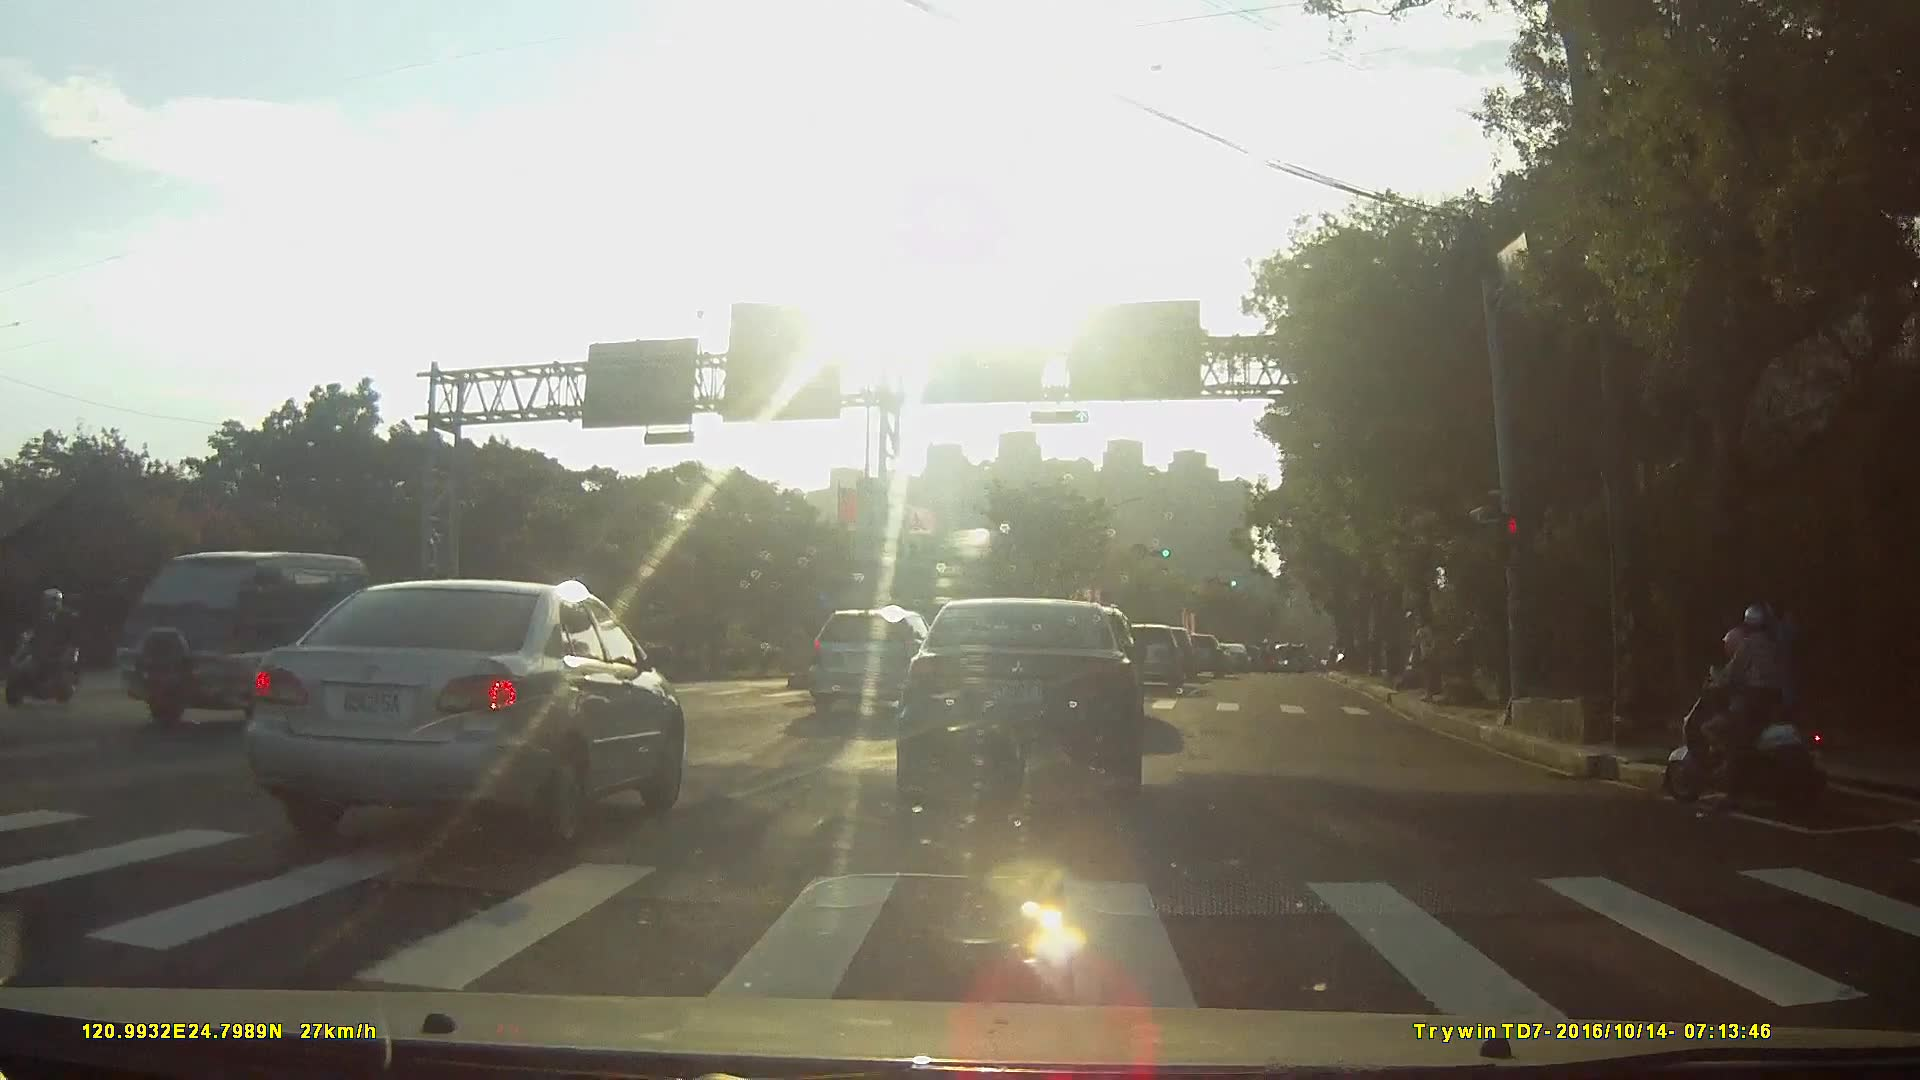pedestrian: (1749, 584, 1811, 749)
rider: (1664, 605, 1830, 819), (17, 589, 82, 707)
vehicle: (236, 577, 688, 852), (893, 596, 1146, 803), (92, 542, 375, 726), (804, 608, 947, 718), (1109, 623, 1183, 690), (1173, 633, 1223, 675), (1212, 644, 1249, 672)
